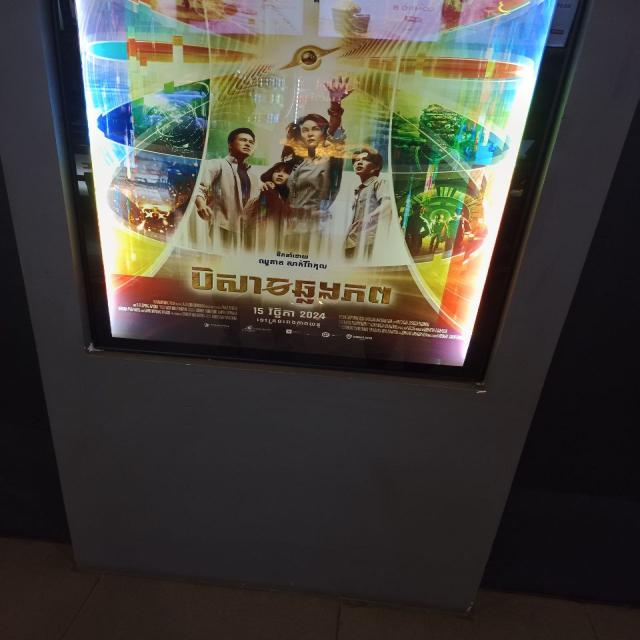1: (257, 256, 331, 272)
590: (253, 306, 265, 316)
650: (298, 310, 327, 321)
Yolov11kh: (187, 264, 399, 314), (255, 316, 321, 329), (266, 306, 296, 319), (275, 250, 310, 259)
